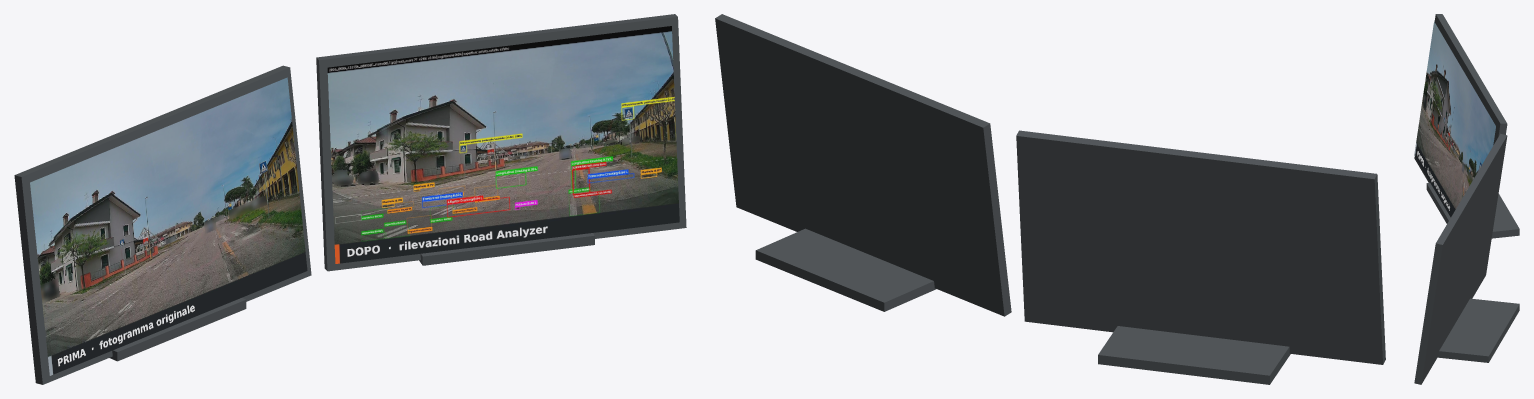
File: prima_dopo_incrocio.glb
The picture shows the model from 3 angles, left to right: view 1: azimuth 30°, elevation 25°; view 2: azimuth 150°, elevation 25°; view 3: azimuth 270°, elevation 25°; orthographic projection. The views are drawn at different scales.
Visible parts, largest first — view 1: geometry_3, geometry_0, geometry_4, geometry_1, geometry_5, geometry_2; view 2: geometry_1, geometry_4, geometry_2, geometry_5; view 3: geometry_0, geometry_4, geometry_5, geometry_1, geometry_2.
Part boxes in pixels (x1,y1,x2,y2): geometry_3: [327, 26, 679, 263]; geometry_0: [30, 77, 307, 375]; geometry_4: [316, 14, 686, 271]; geometry_1: [14, 65, 311, 384]; geometry_5: [419, 233, 594, 265]; geometry_2: [109, 298, 246, 361]; geometry_1: [1016, 130, 1385, 364]; geometry_4: [715, 14, 1011, 316]; geometry_2: [1098, 326, 1290, 384]; geometry_5: [755, 228, 936, 311]; geometry_0: [1414, 21, 1495, 217]; geometry_4: [1414, 133, 1507, 384]; geometry_5: [1437, 298, 1519, 362]; geometry_1: [1414, 14, 1507, 182]; geometry_2: [1426, 182, 1519, 238].
Size of the model in its own units: 0.5965 by 0.1739 by 0.1153.
Materials: 2 (2 with a texture image).
